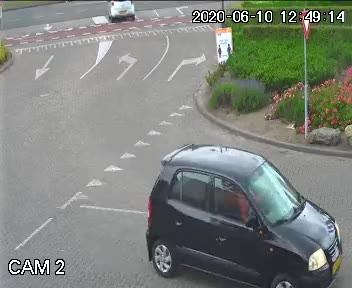car: (135, 137, 344, 287), (105, 0, 138, 28)
